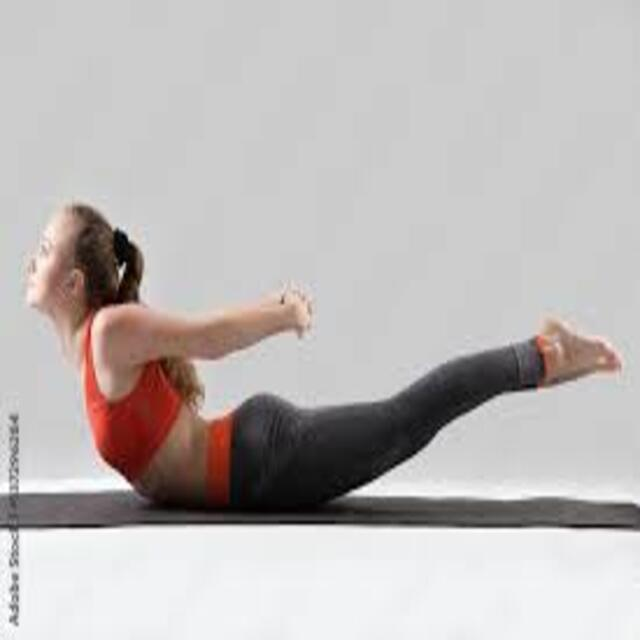Locust_Pose: (18, 206, 619, 519)
